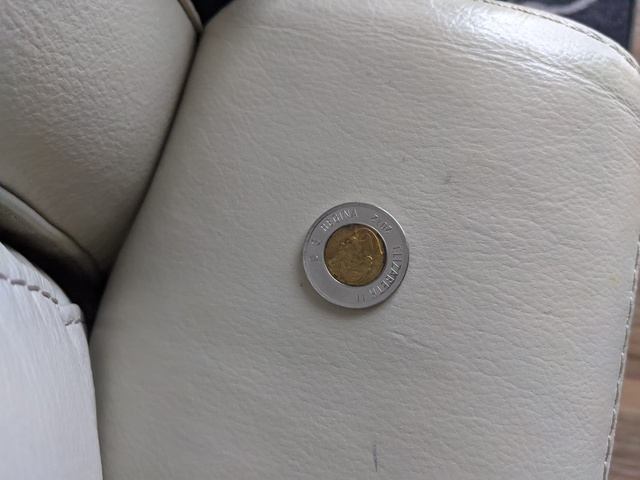twonie: (297, 197, 409, 310)
